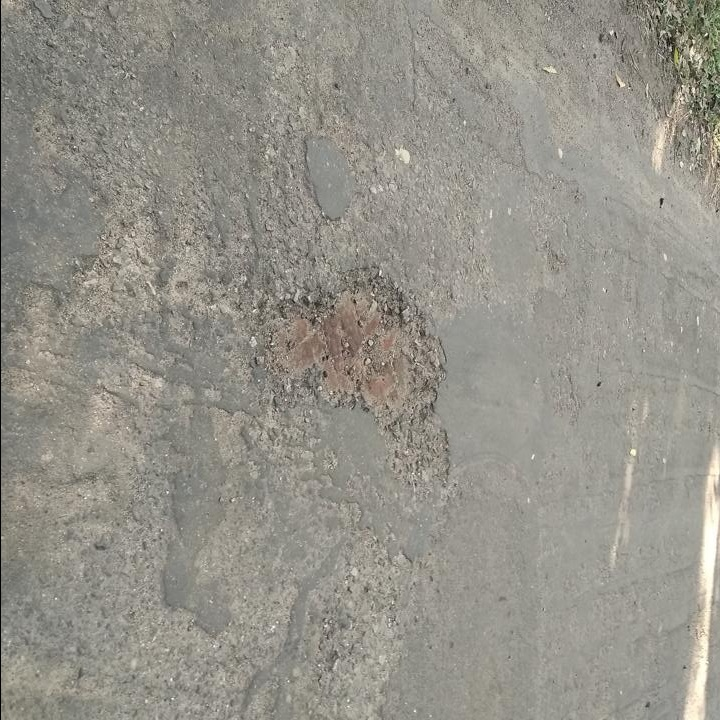pothole: (256, 264, 455, 494)
